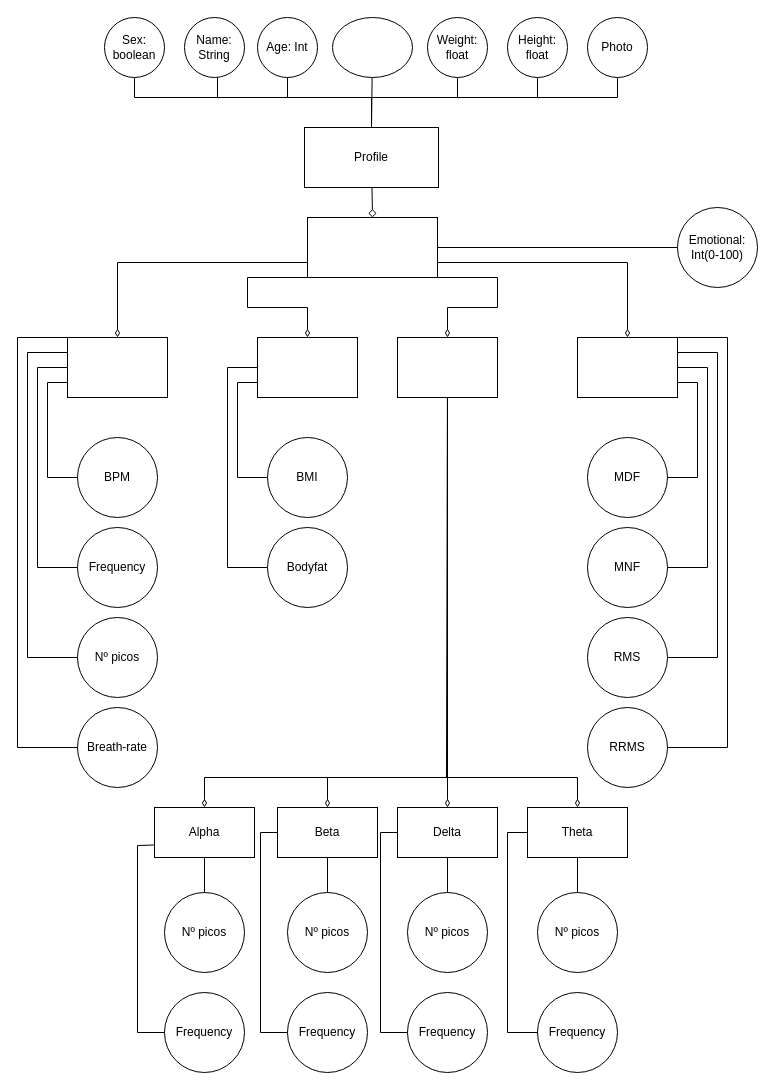
Image size: 775x1090. Some labels were removed from this diagram. The shapes that lost their labels are listed below. From the top down, each one's box as (x1, y1, x2, y2) in pixels, then its label:
(332, 16, 412, 78): Previous Conditions: Enum[ ]
(306, 216, 438, 278): Registers
(66, 336, 168, 398): CardioRespiratory: Int(0-100)
(256, 336, 358, 398): Fitness: Int(0-100)
(396, 336, 498, 398): Cerebral activity: Int(0-100)
(576, 336, 678, 398): Nervous and Muscular System: Int(0-100)
